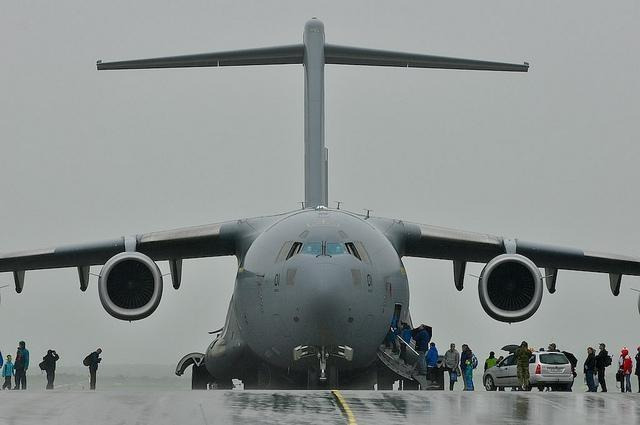car: (483, 348, 575, 391)
